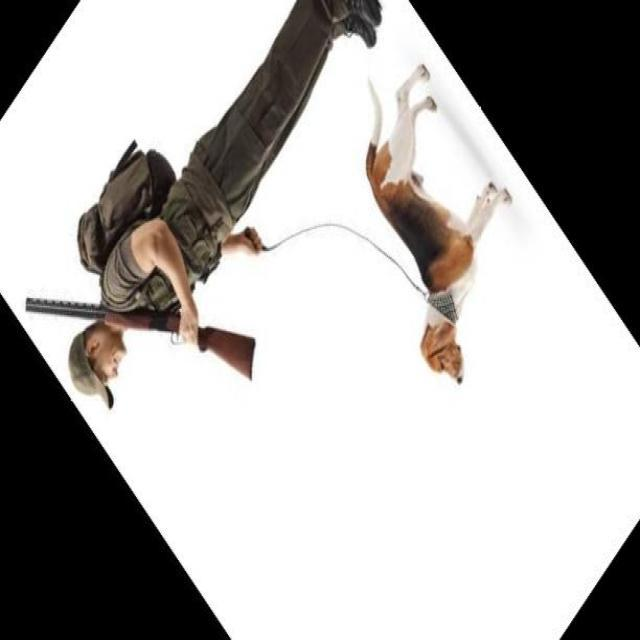weapon: (25, 294, 256, 384)
